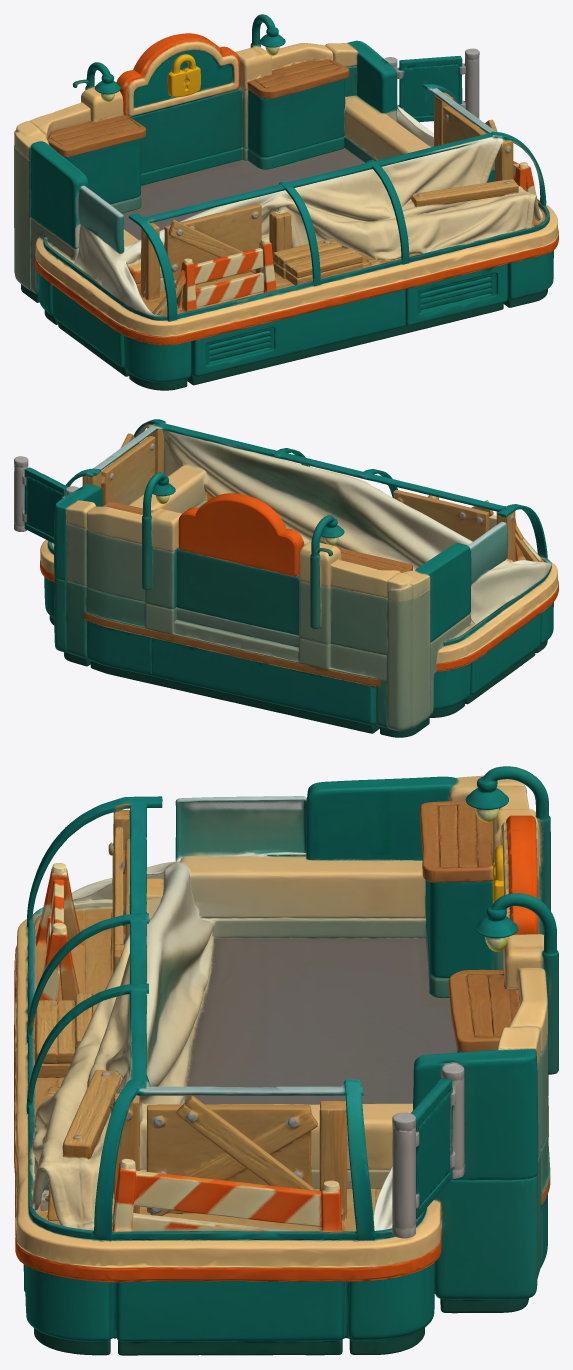
The model's file is CheeseryConstruction.fbx.
3 renders of one model, top to bottom at view 1: azimuth 30°, elevation 25°; view 2: azimuth 150°, elevation 25°; view 3: azimuth 270°, elevation 25°, orthographic. The views are drawn at different scales.
Visible parts, largest first — view 1: tripo_node_d45235ee-27cf-49c2-95cb-986ac1805489; view 2: tripo_node_d45235ee-27cf-49c2-95cb-986ac1805489; view 3: tripo_node_d45235ee-27cf-49c2-95cb-986ac1805489.
Part boxes in pixels (x1,y1,x2,y2): tripo_node_d45235ee-27cf-49c2-95cb-986ac1805489: (14,14,558,390); tripo_node_d45235ee-27cf-49c2-95cb-986ac1805489: (14,419,558,737); tripo_node_d45235ee-27cf-49c2-95cb-986ac1805489: (14,766,558,1355).
Bounding box in the file's own units: 98.02 × 43.26 × 62.18.
